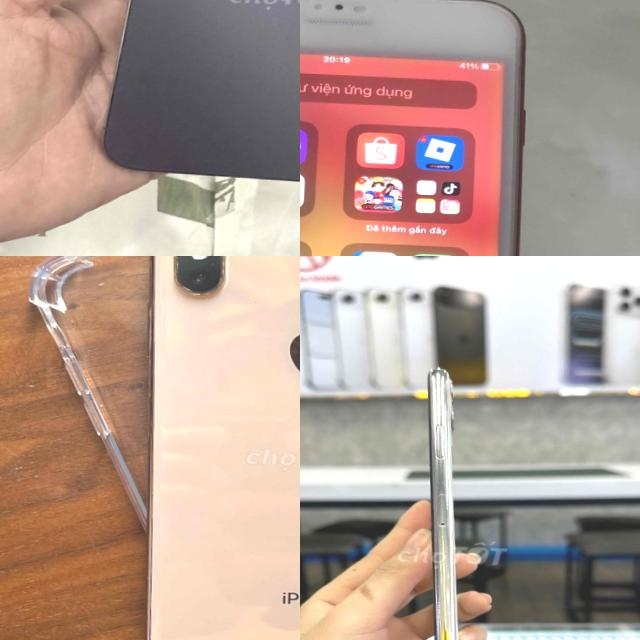gen_11: (407, 366, 486, 640)
gen_14: (99, 0, 300, 188)
gen_7_8: (300, 0, 551, 256)
gen_x_xs: (89, 256, 300, 640)
scratch: (421, 562, 465, 640), (300, 0, 509, 12), (432, 458, 454, 520), (165, 256, 190, 285), (217, 256, 233, 288)
